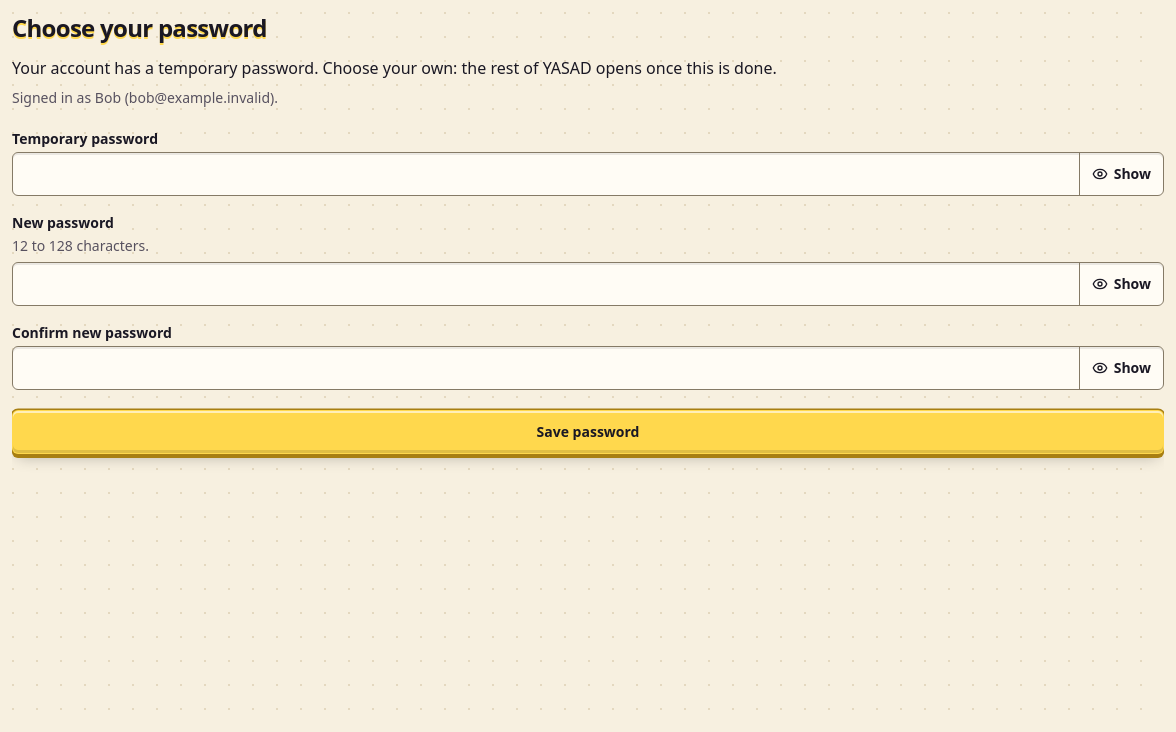
Test case: PasswordForm, temporary password › shows a wrong temporary password once in the summary and once under the field
Type "wrong password!" into the password field labelled "Temporary password" at (546, 174), box [13,153,1079,195]
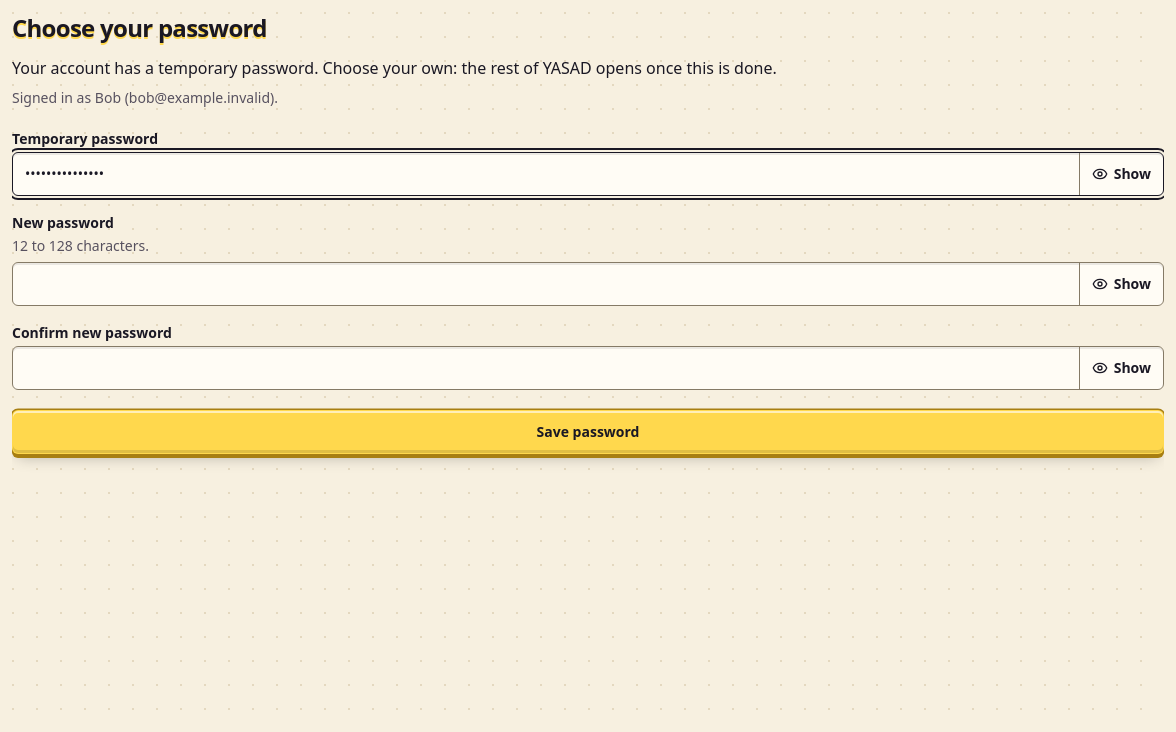
Type "a brand new passphrase" into the password field labelled "New password" at (546, 284), box [13,263,1079,305]
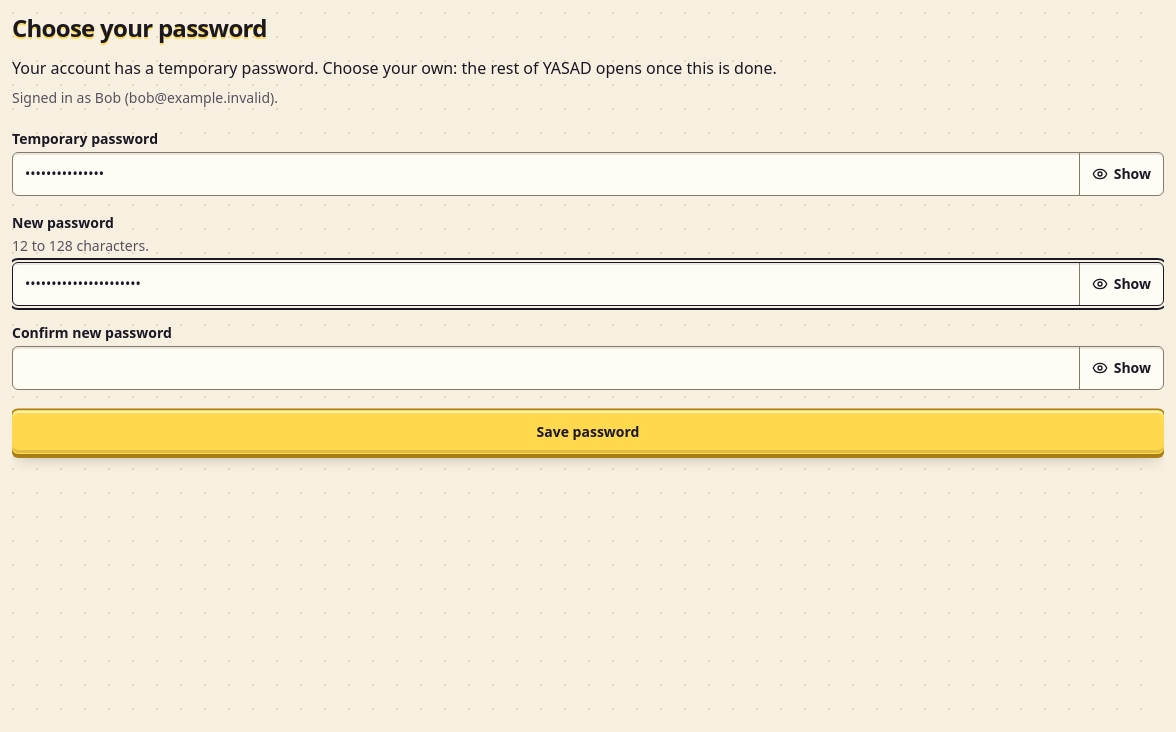
Type "a brand new passphrase" into the password field labelled "Confirm new password" at (546, 368), box [13,347,1079,389]
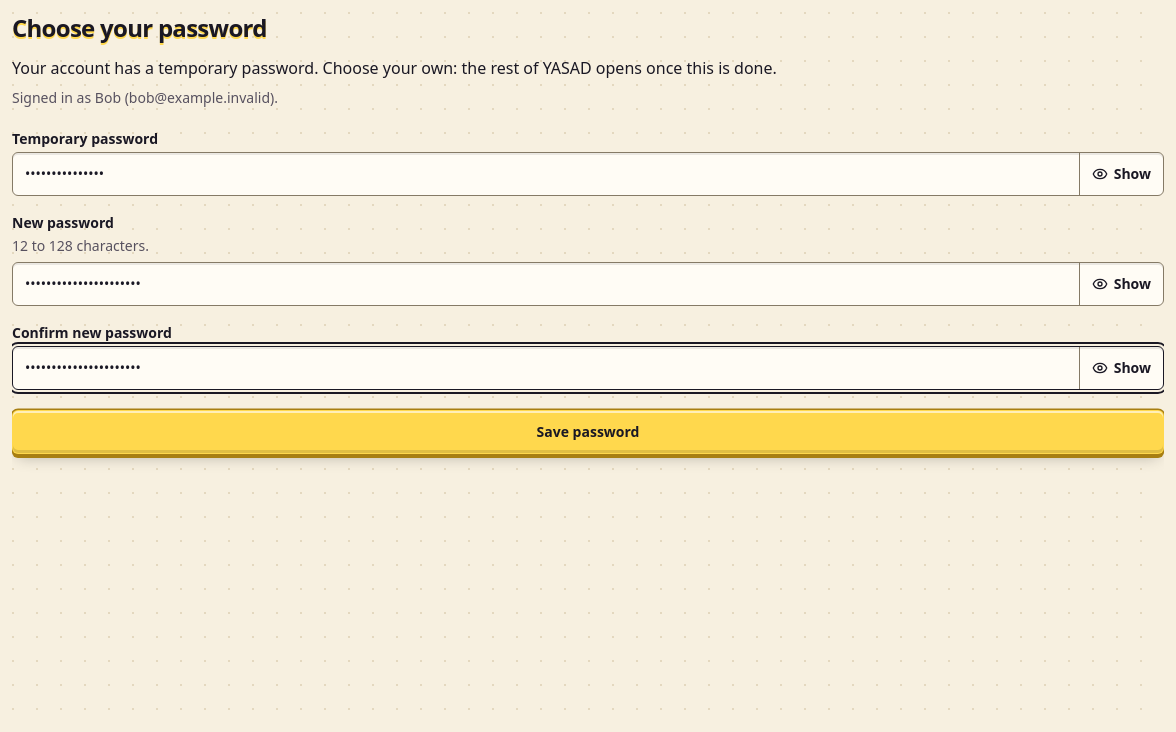
Click the button "Save password" at (588, 432), box [12,410,1164,454]
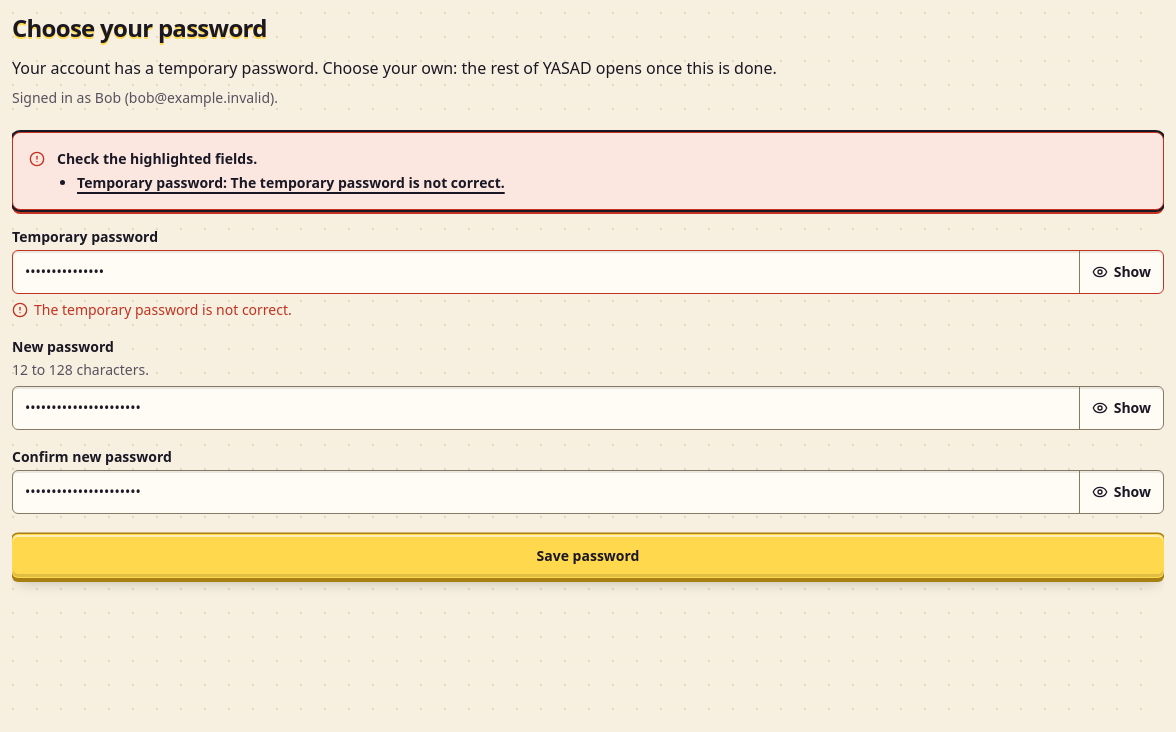
Expected: the link "Temporary password: The temporary password is not correct." is shown, [77,173,505,192]
